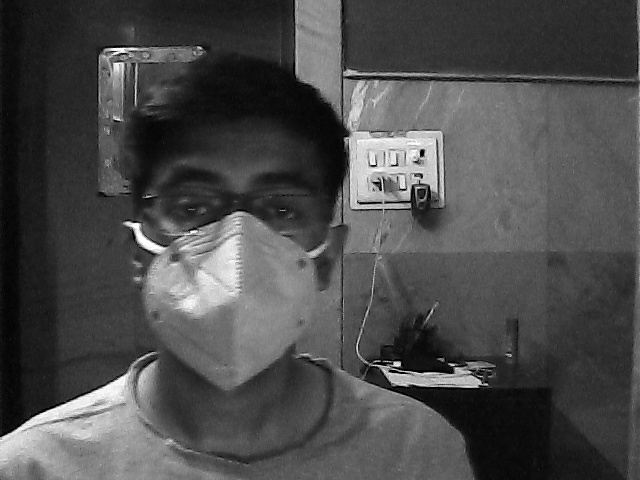mask: (134, 152, 341, 392)
